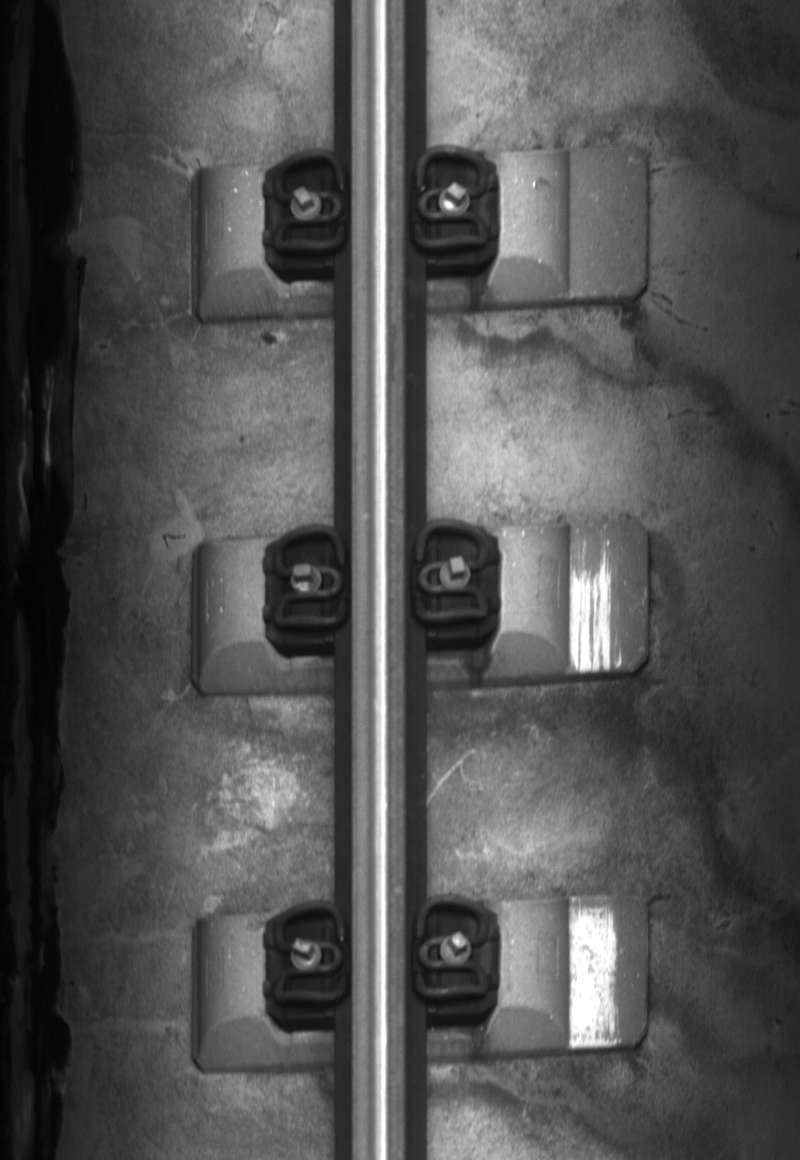l_faster: (266, 521, 351, 636), (268, 897, 351, 1008), (267, 145, 350, 256)
r_faster: (406, 143, 496, 259), (410, 515, 493, 628), (412, 892, 493, 1005)
